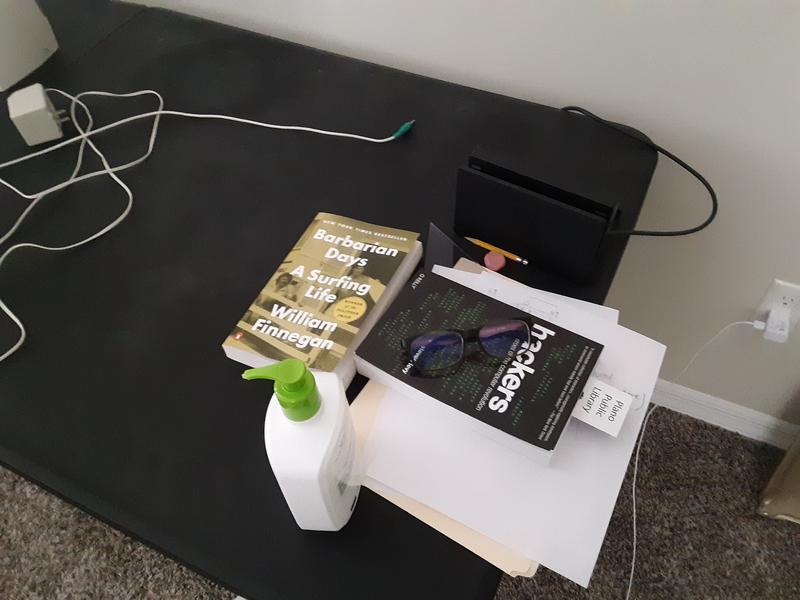glasses: (398, 316, 535, 375)
